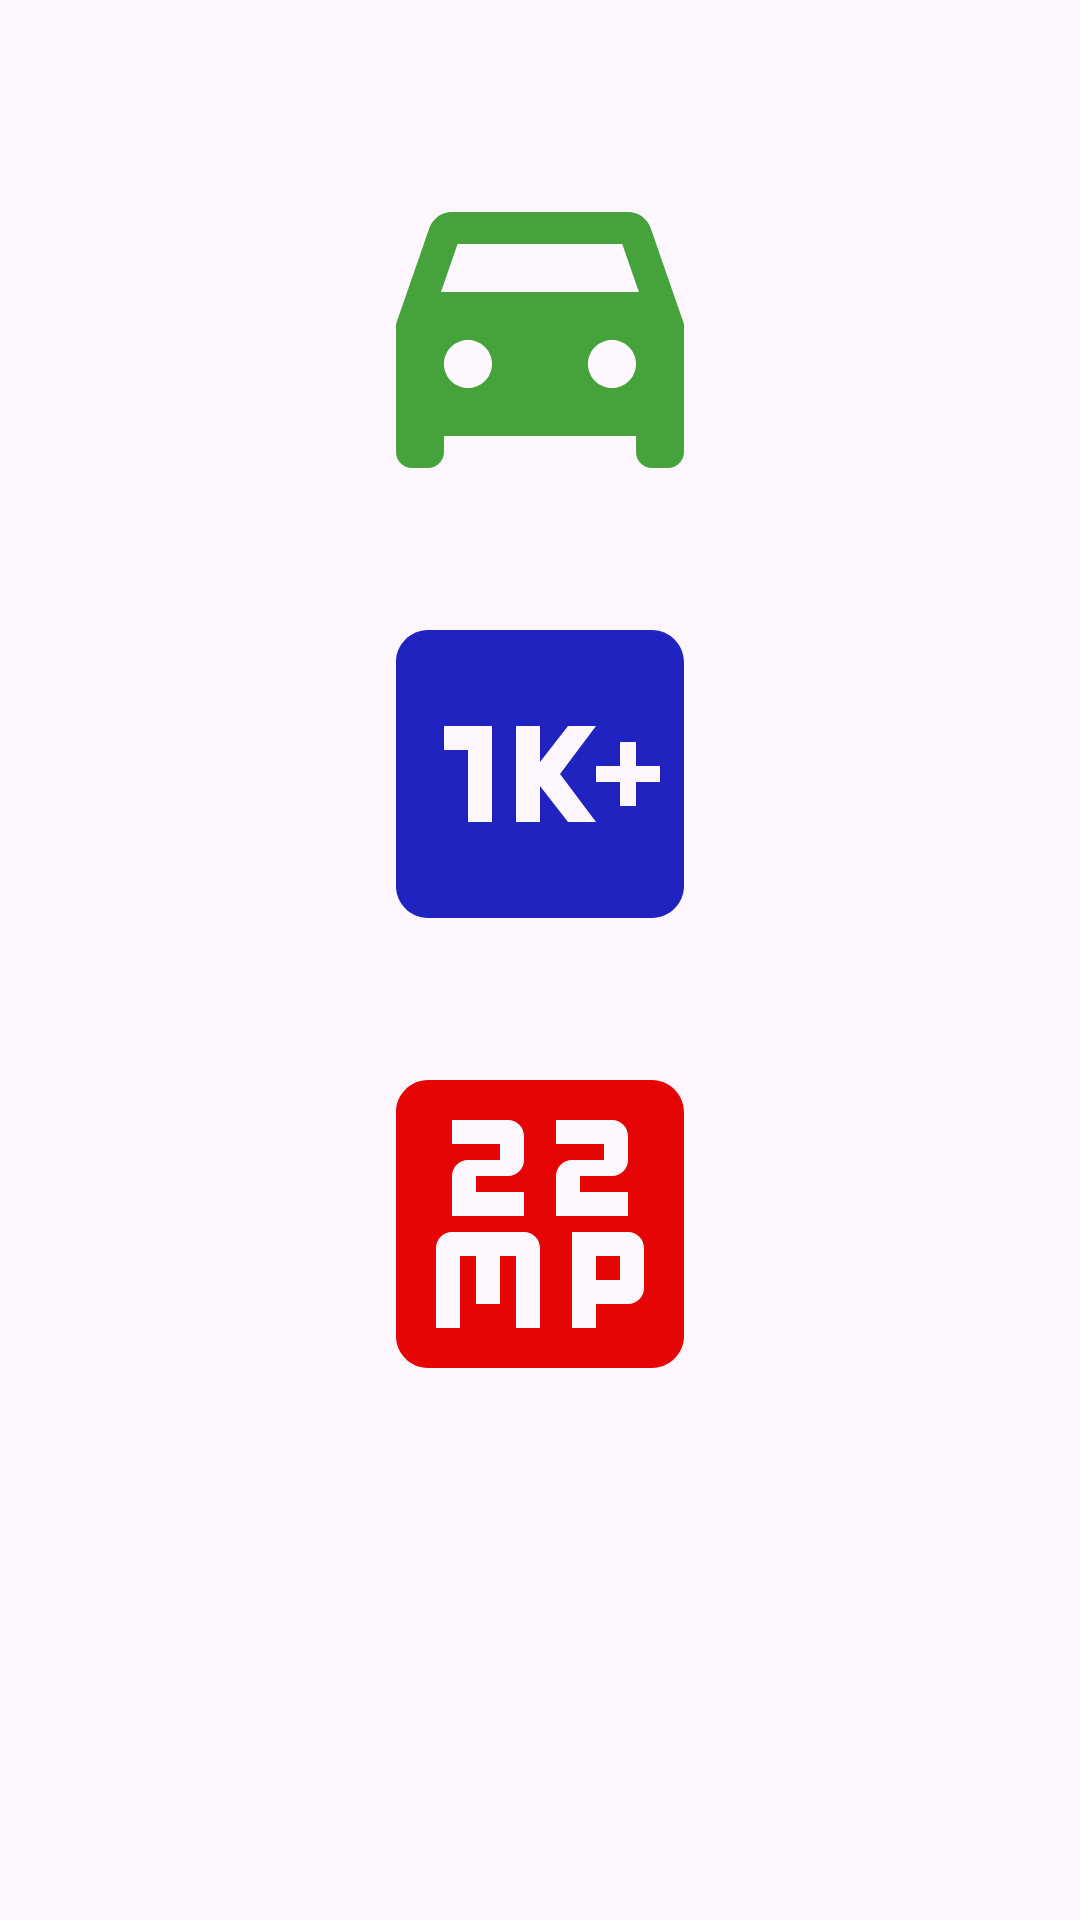

Where icons sit on this 1080px×1920px app screen, as {"left": x1, "top": y1, "right": x2, "bottom": y2}:
car: {"left": 396, "top": 212, "right": 684, "bottom": 468}
